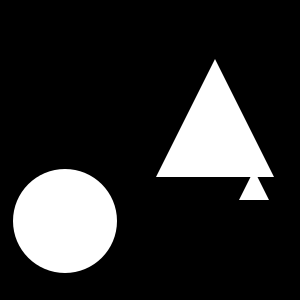rectangle: (13, 169, 117, 273)
triangle: (156, 59, 274, 177), (239, 170, 269, 200)
